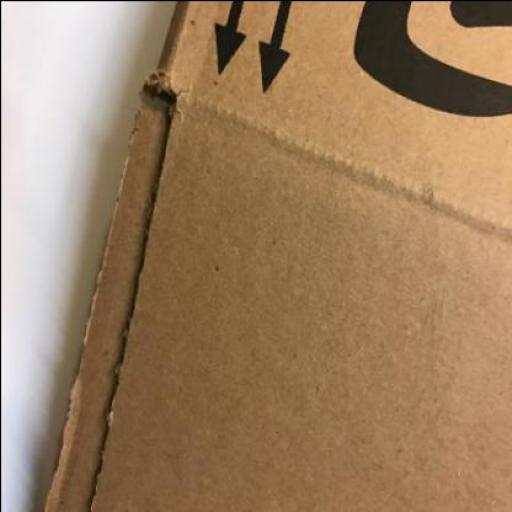cardboard: (40, 1, 510, 511)
